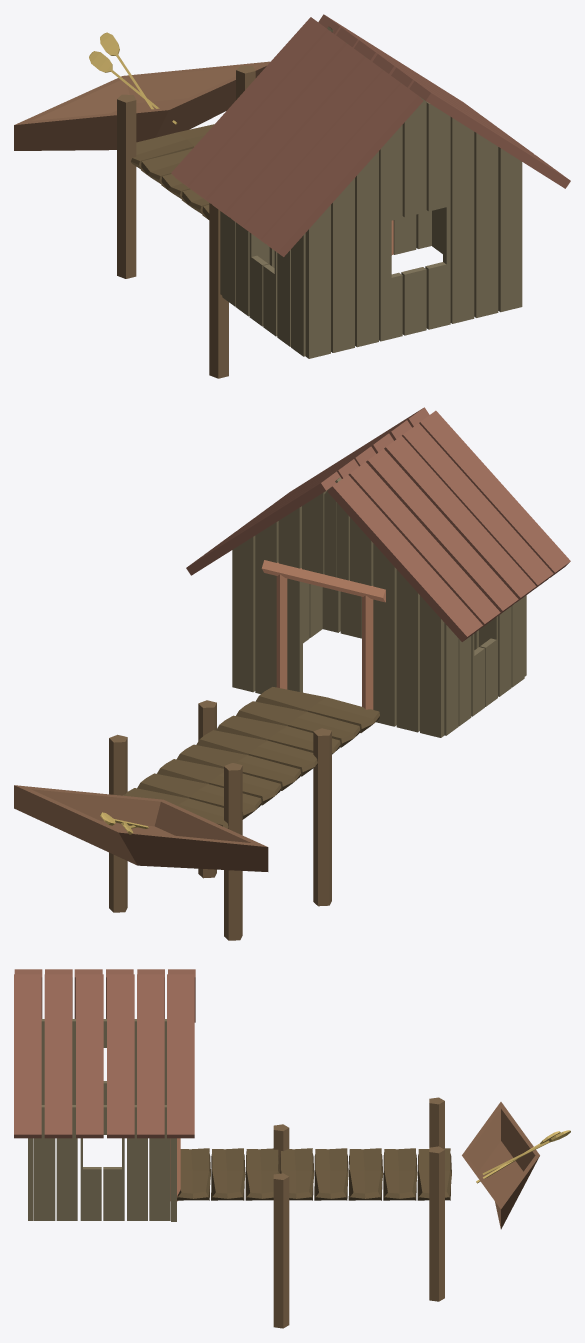
File: Fischerhütte_clear.fbx
3 renders of one model, top to bottom at view 1: azimuth 30°, elevation 25°; view 2: azimuth 150°, elevation 25°; view 3: azimuth 270°, elevation 25°, orthographic. The views are drawn at different scales.
Visible parts, largest first — view 1: Cylinder.004; view 2: Cylinder.004; view 3: Cylinder.004.
Boxes of the visible parts, x1,y1,x2,y2 form: Cylinder.004: (14, 14, 570, 378); Cylinder.004: (14, 407, 570, 940); Cylinder.004: (14, 969, 570, 1328).
Size of the model in its own units: 627 by 789 by 1231.
